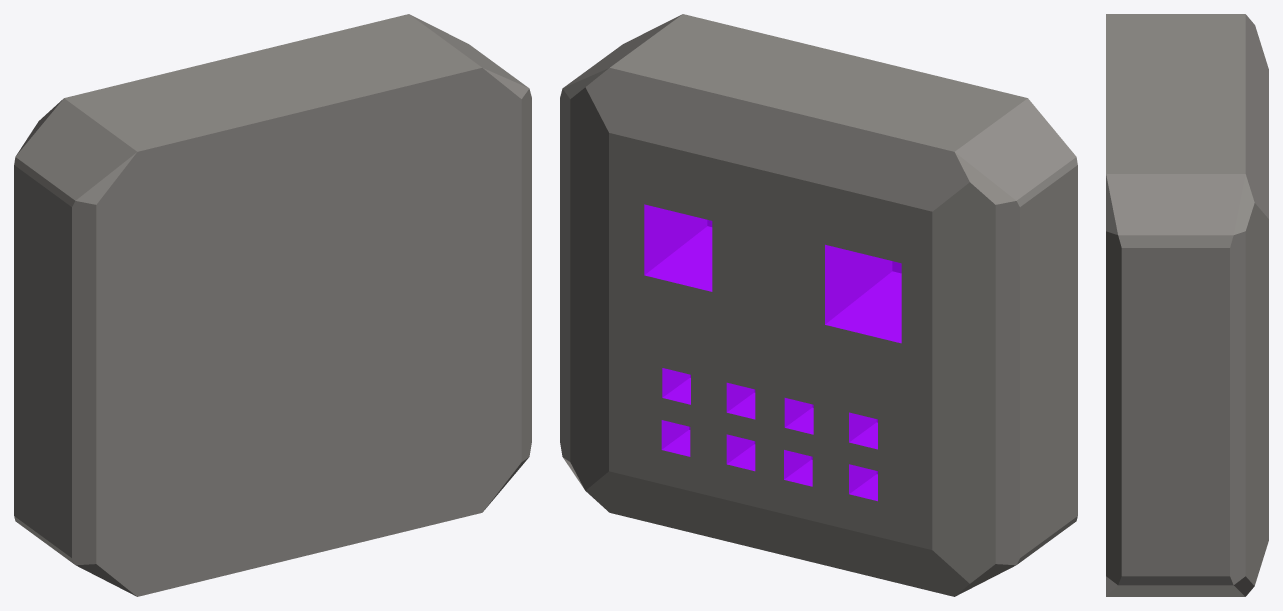
The model's file is poisonShooter.fbx.
3 renders of one model, left to right at view 1: azimuth 30°, elevation 25°; view 2: azimuth 150°, elevation 25°; view 3: azimuth 270°, elevation 25°, orthographic. The views are drawn at different scales.
Visible parts, largest first — view 1: Cube.001; view 2: Cube.001; view 3: Cube.001.
Boxes of the visible parts, left/top/right/bottom form: Cube.001: left=14, top=14, right=531, bottom=596; Cube.001: left=560, top=14, right=1077, bottom=596; Cube.001: left=1106, top=14, right=1268, bottom=596.
Size of the model in its own units: 216 by 200 by 69.75.
